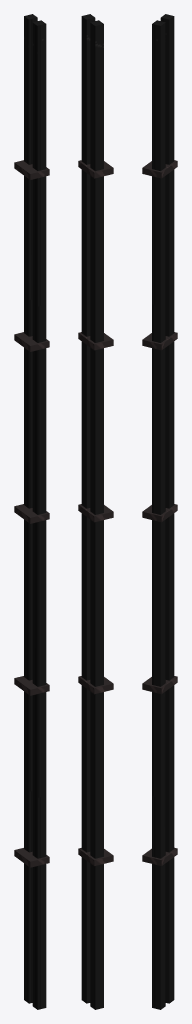
File: industrialCableA.obj
The picture shows the model from 3 angles, left to right: view 1: azimuth 30°, elevation 25°; view 2: azimuth 210°, elevation 25°; view 3: azimuth 330°, elevation 25°; orthographic projection.
Visible parts, largest first — view 1: Cube, Cube.002, Cube.005, Cube.001, Cube.003, Cube.004, Cube.006; view 2: Cube.002, Cube, Cube.001, Cube.003, Cube.005, Cube.006, Cube.004; view 3: Cube, Cube.002, Cube.006, Cube.001, Cube.003, Cube.004, Cube.005.
Part boxes in pixels (<box>): Cube: <box>32,20,46,1009</box>; Cube.002: <box>24,14,37,1003</box>; Cube.005: <box>14,160,49,179</box>; Cube.001: <box>14,504,49,523</box>; Cube.003: <box>14,332,49,351</box>; Cube.004: <box>14,676,49,695</box>; Cube.006: <box>14,848,49,867</box>; Cube.002: <box>90,20,103,1009</box>; Cube: <box>81,14,95,1003</box>; Cube.001: <box>78,504,113,522</box>; Cube.003: <box>78,332,113,350</box>; Cube.005: <box>78,160,113,178</box>; Cube.006: <box>78,848,113,865</box>; Cube.004: <box>78,676,113,694</box>; Cube: <box>152,20,165,1009</box>; Cube.002: <box>160,14,174,1003</box>; Cube.006: <box>142,847,177,865</box>; Cube.001: <box>142,504,177,522</box>; Cube.003: <box>142,332,177,350</box>; Cube.004: <box>142,676,177,694</box>; Cube.005: <box>142,160,177,178</box>.
Size of the model in its own units: 0.235 by 11.45 by 0.337.
7 materials, 7 textured.
